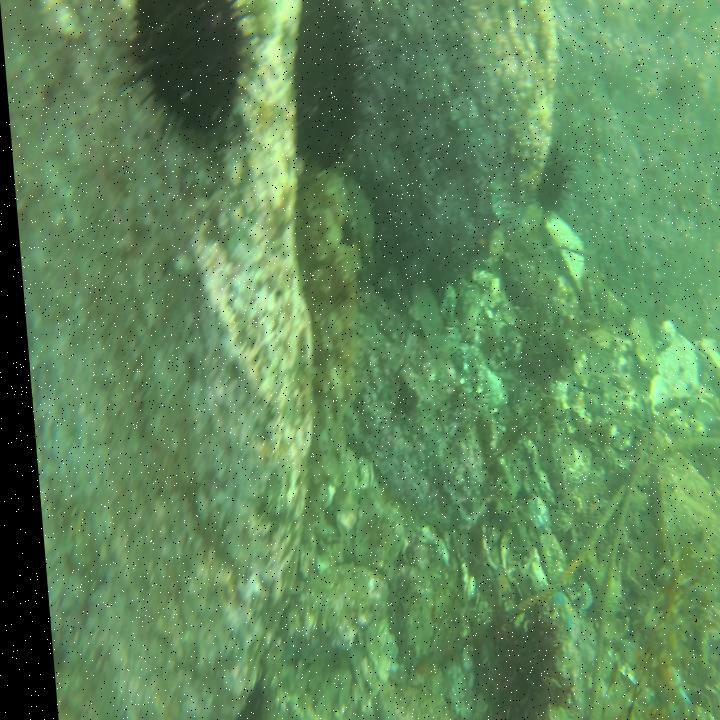echinus: (119, 0, 254, 155), (283, 0, 374, 167), (532, 144, 573, 212)
